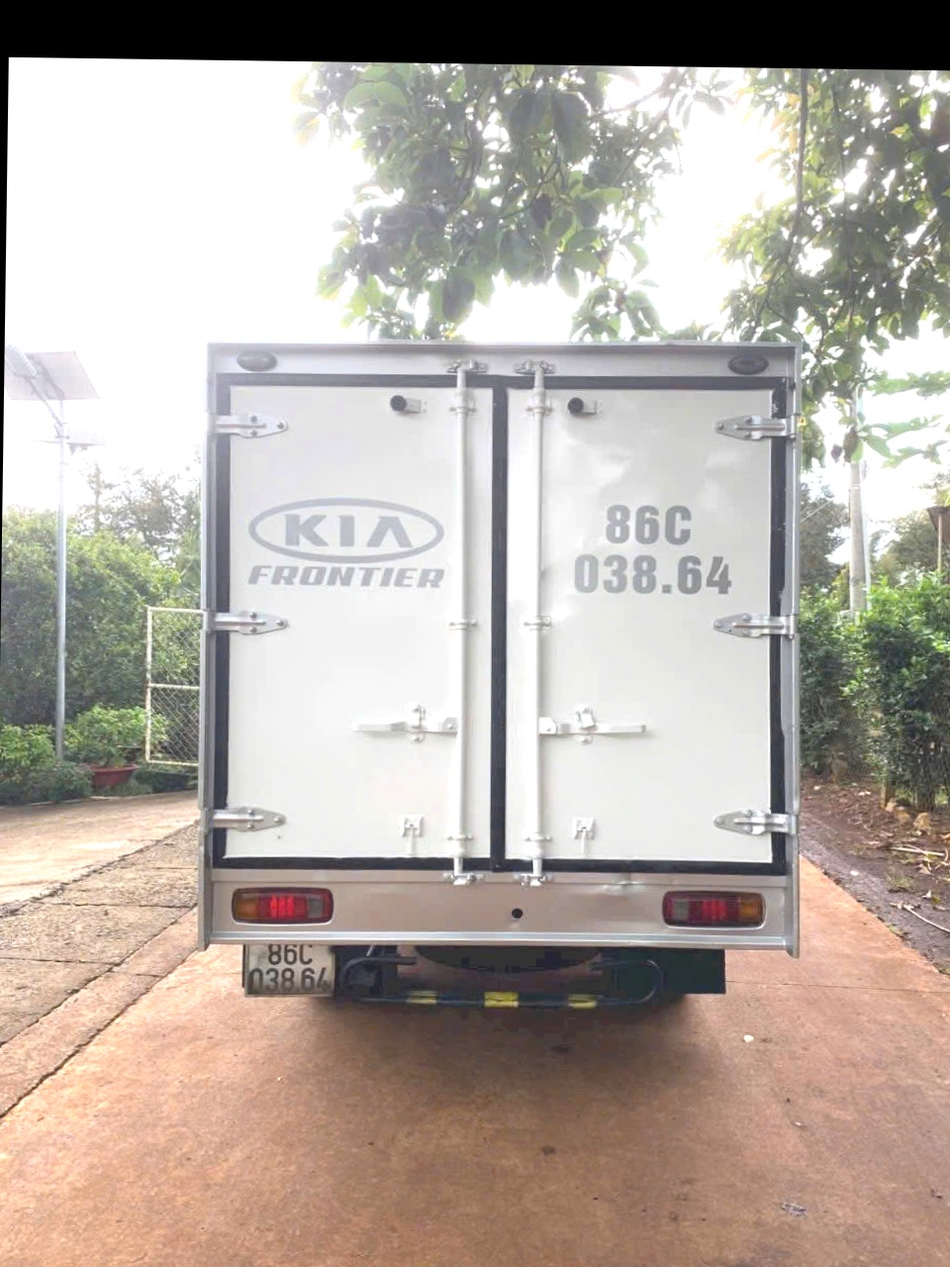Bien-so: (244, 910, 339, 978)
